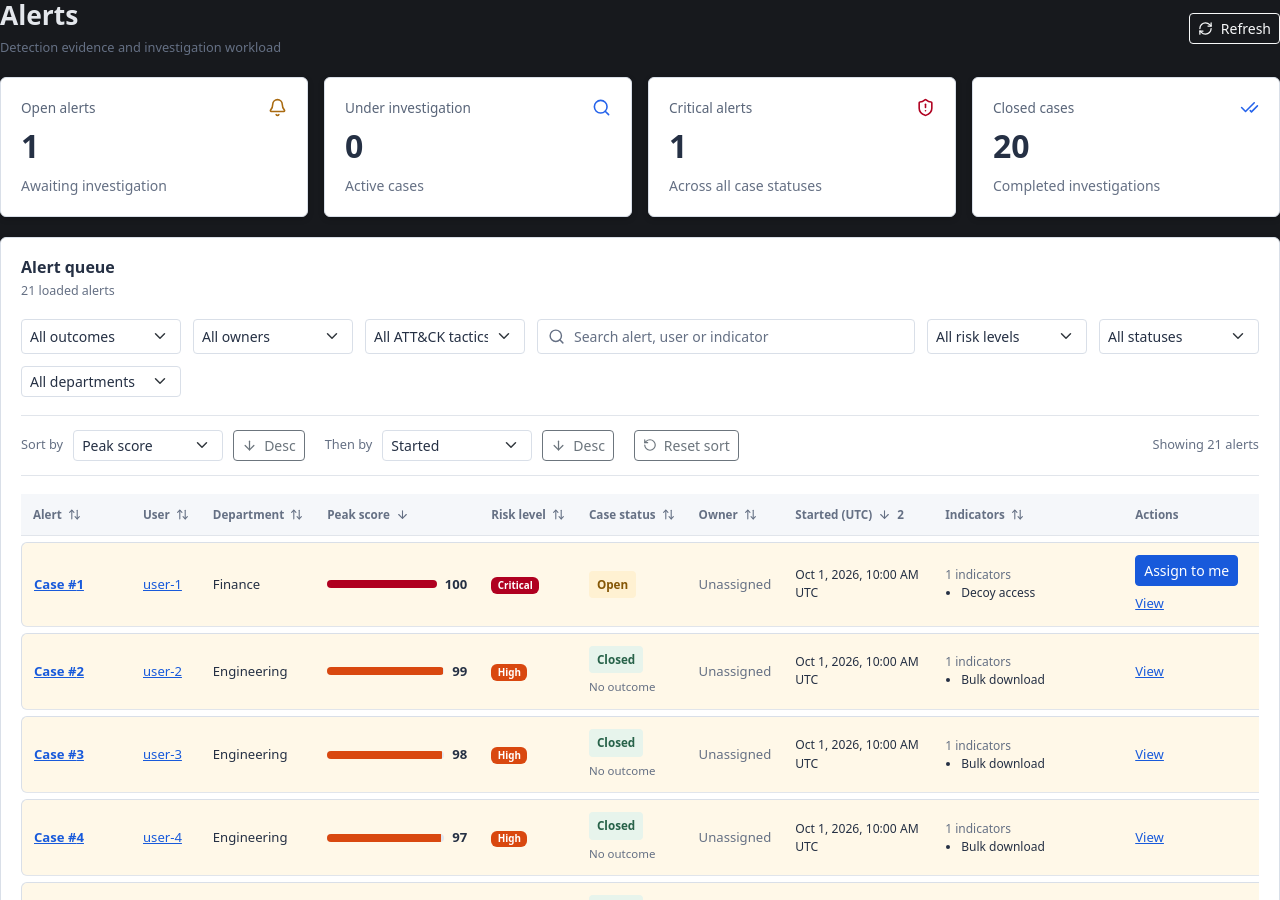
Test: combines filters and indicator search, then clears an empty result
Expected: the link "Case #1" is shown, [34,575,84,593]
Type "Decoy" into the field named "Search alerts".
click(726, 336); type("Decoy")  # box [537,319,915,354]
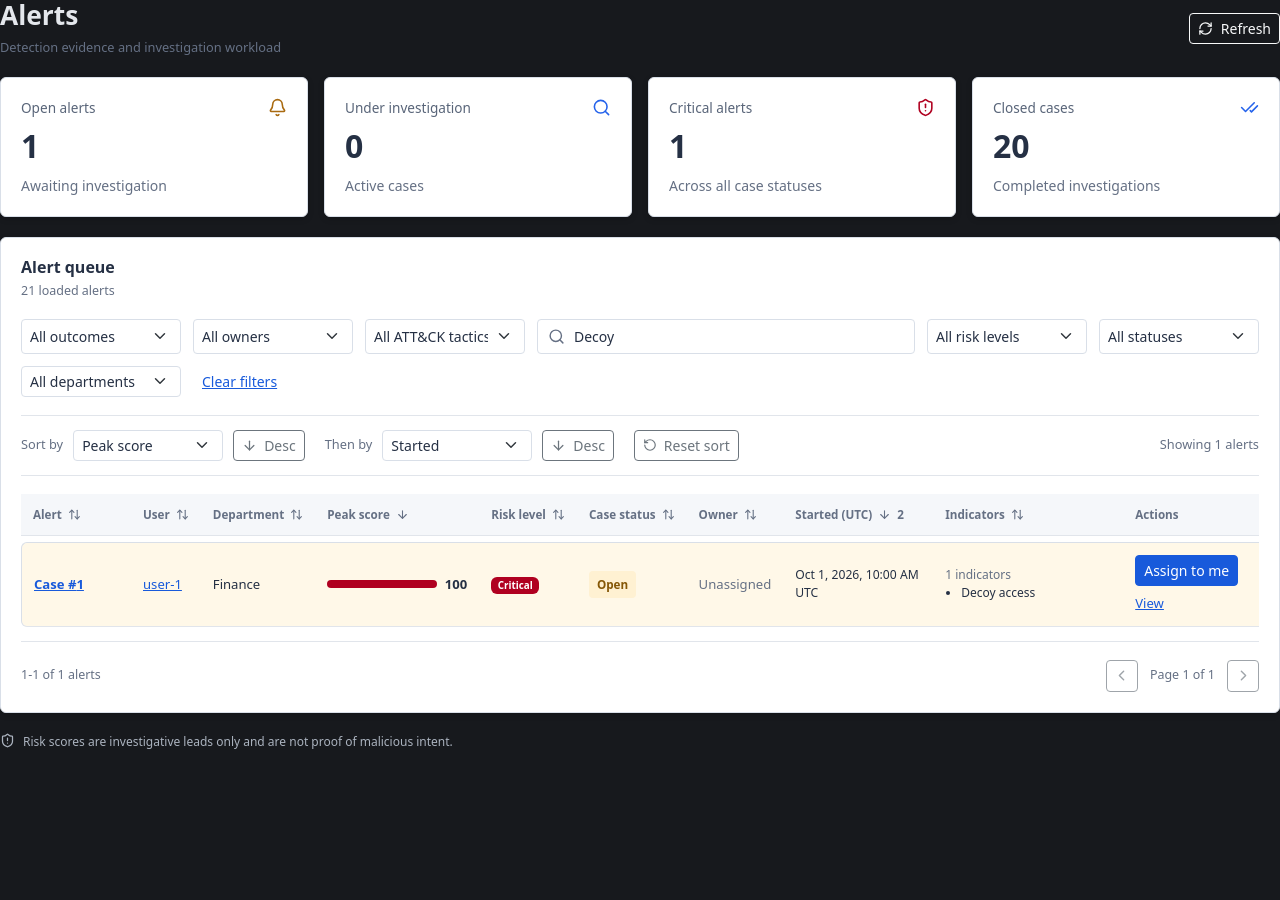
Select "Finance" in the dropdown named "Department" at x=101, y=381, box [21,366,181,397]
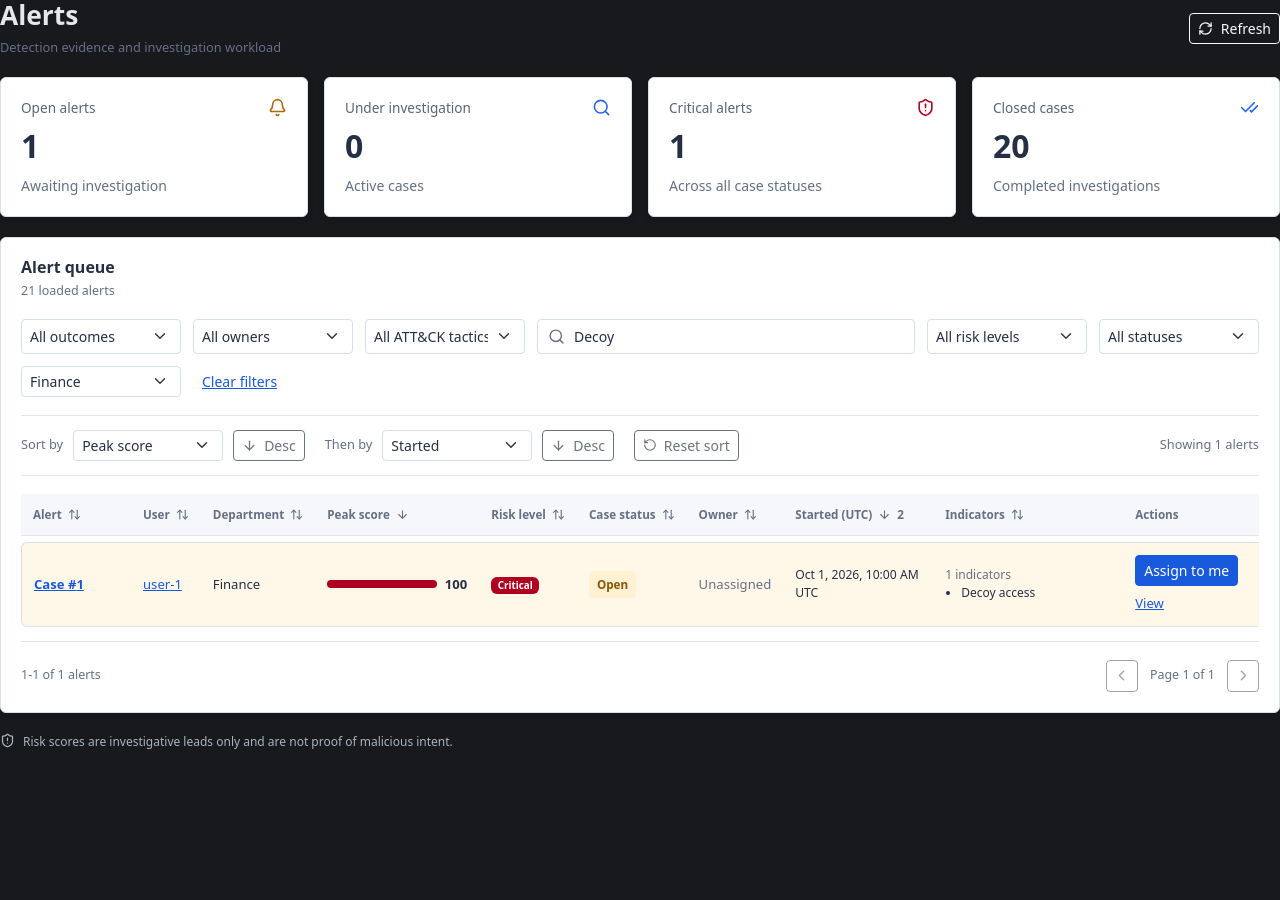
Expected: the link "Case #1" is shown, [34,575,84,593]
Select "Closed" in the dropdown named "Case status" at x=1179, y=336, box [1099,319,1259,354]
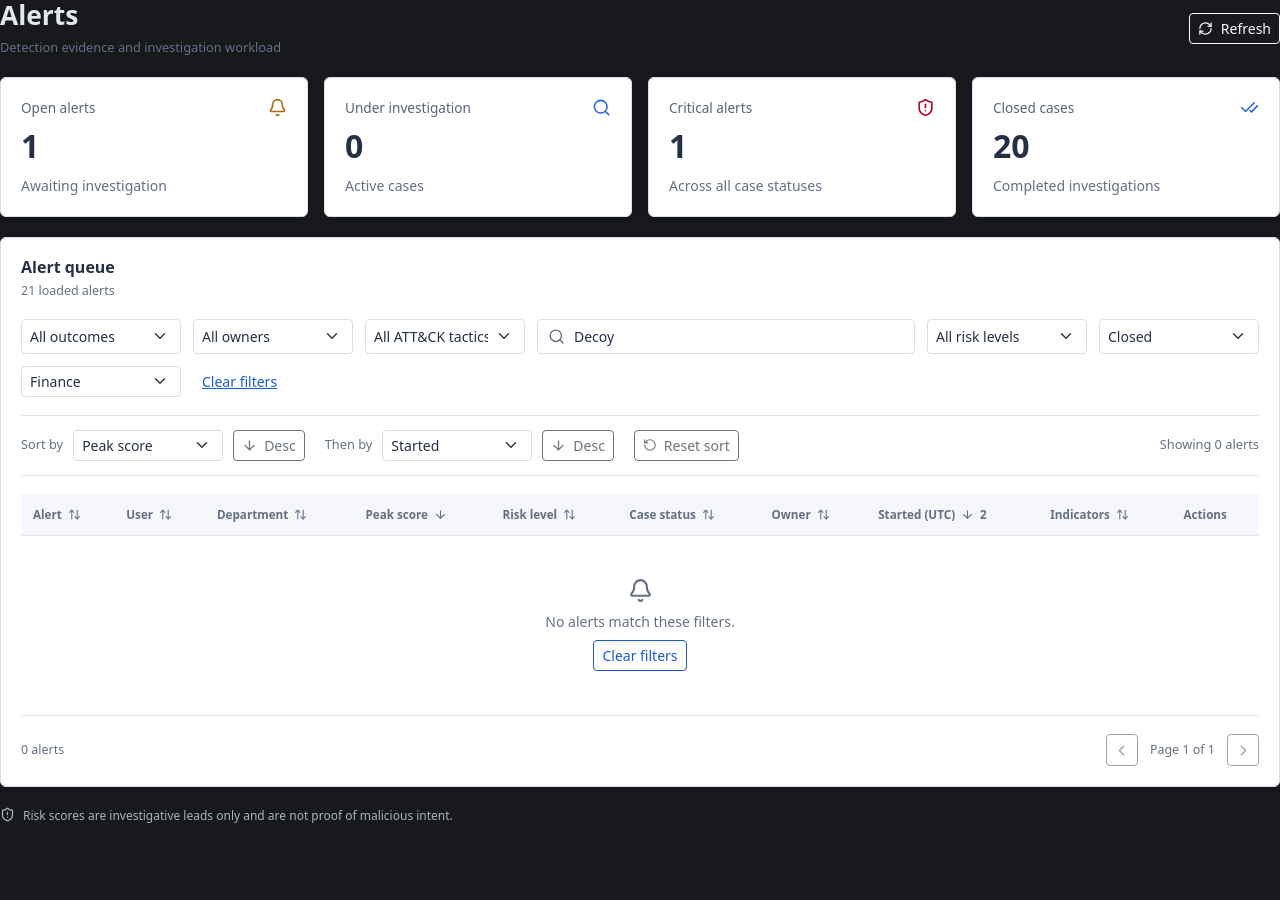
Expected: the text "No alerts match these filters." is shown, [545,612,735,631]
Click the 1st button "Clear filters".
click(240, 381)  # box [193,366,286,397]
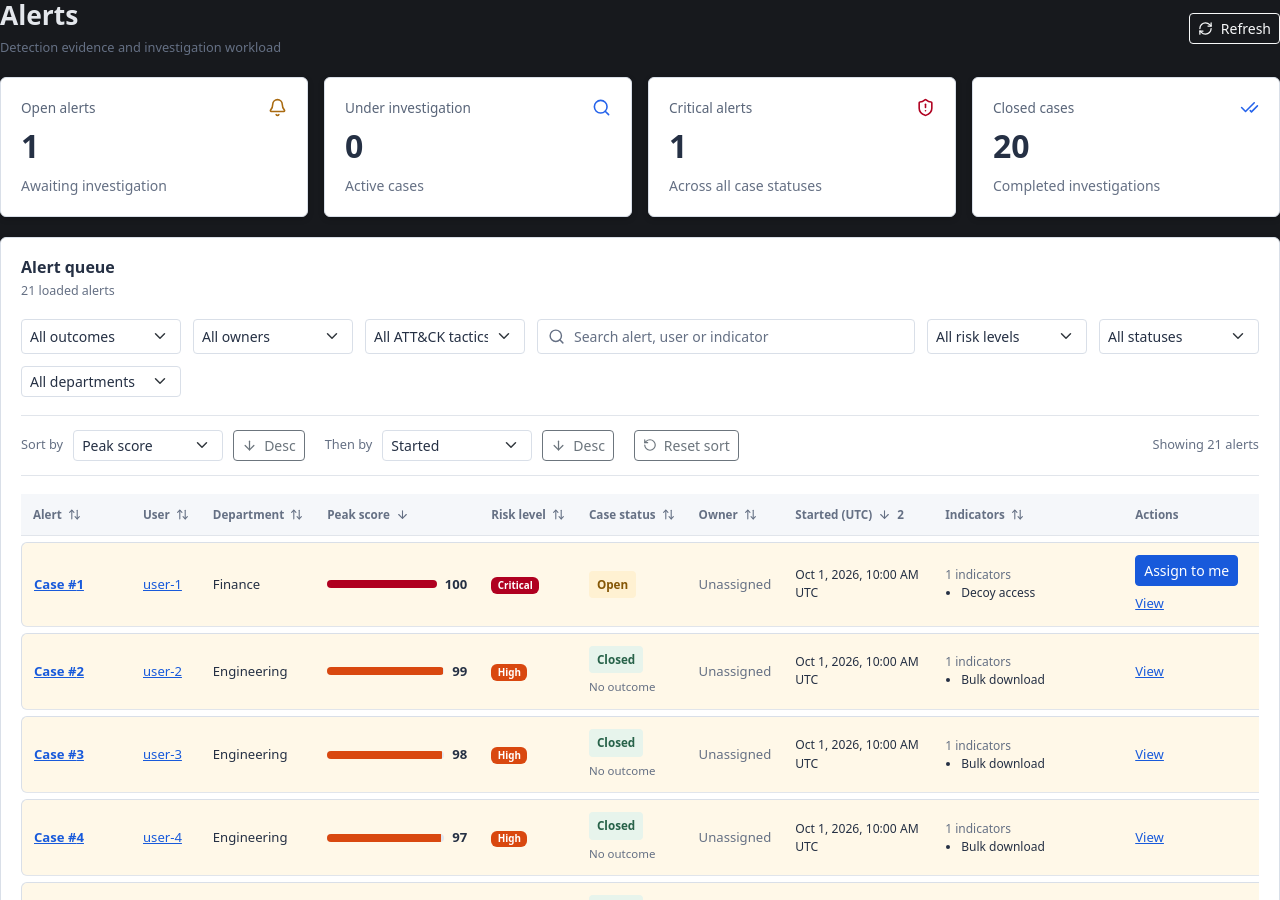
Expected: the link "Case #1" is shown, [34,575,84,593]
Expected: the field named "Search alerts" is empty, [537,319,915,354]
